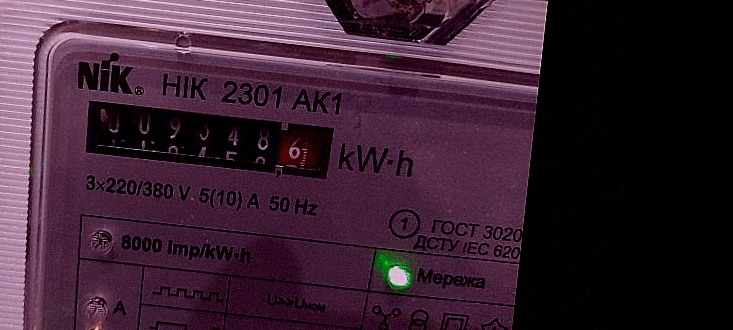0: (104, 107, 123, 135), (135, 108, 152, 135)
3: (196, 115, 213, 142)
4: (223, 116, 244, 148)
6: (284, 131, 305, 162)
8: (254, 123, 272, 152)
9: (166, 114, 183, 142)
screen: (64, 83, 349, 191)
